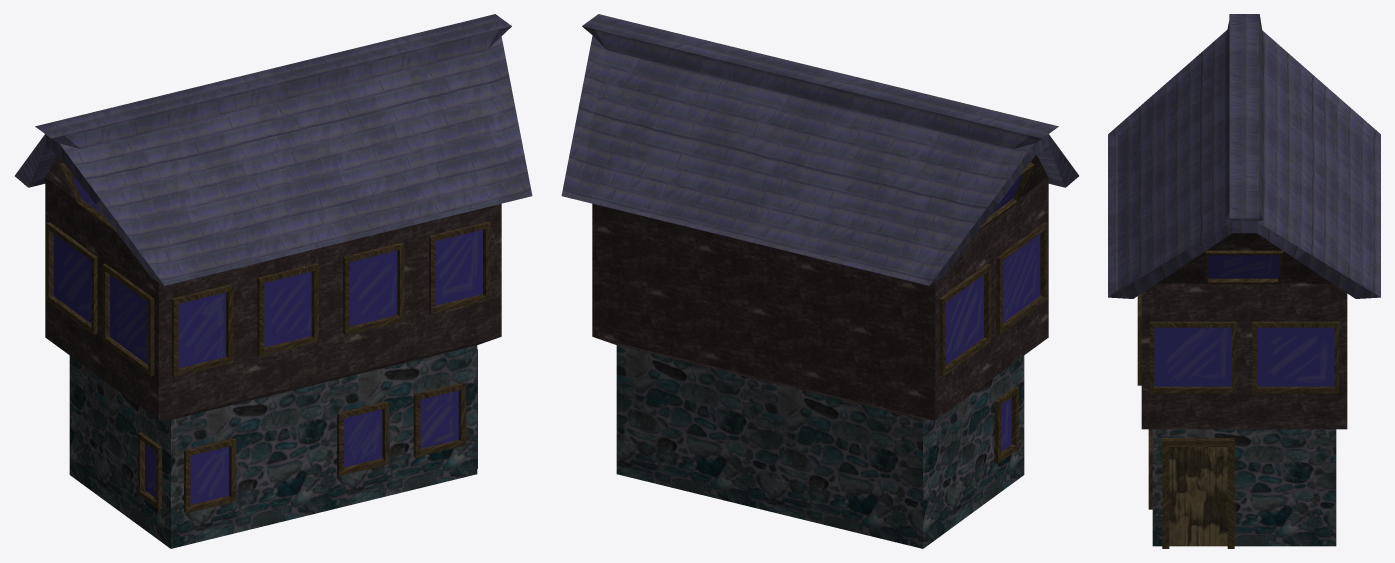
File: HouseTurned.fbx
3 views of the same model, side by side, from view 1: azimuth 30°, elevation 25°; view 2: azimuth 150°, elevation 25°; view 3: azimuth 270°, elevation 25° (orthographic). The views are drawn at different scales.
Parts seen in each view (by area): view 1: Cube.001; view 2: Cube.001; view 3: Cube.001.
Part boxes in pixels (box(x1,y1,x2,y2)): Cube.001: box(15, 14, 532, 548); Cube.001: box(561, 14, 1078, 548); Cube.001: box(1108, 14, 1380, 548).
Bounding box in the file's own units: 2105 × 1739 × 1188.
5 materials, 5 textured.
